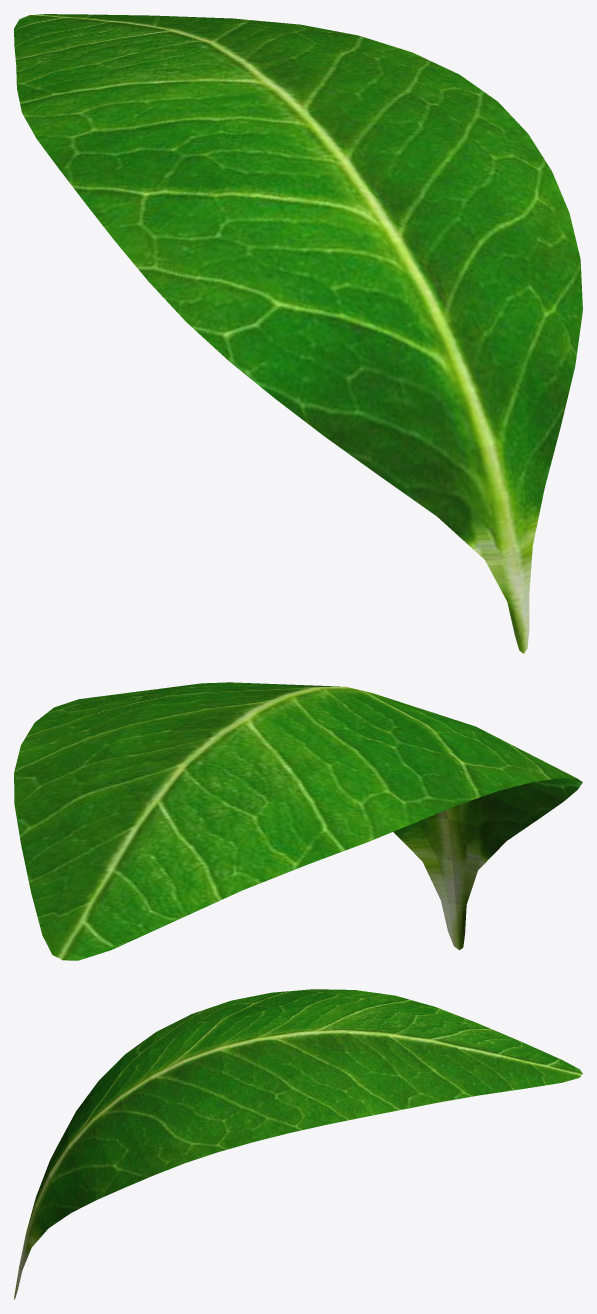
Rendered from Leaf.glb.
3 renders of one model, top to bottom at view 1: azimuth 30°, elevation 25°; view 2: azimuth 150°, elevation 25°; view 3: azimuth 270°, elevation 25°, orthographic. The views are drawn at different scales.
Parts seen in each view (by area): view 1: Plane; view 2: Plane; view 3: Plane.
Boxes of the visible parts, x1,y1,x2,y2 form: Plane: (14, 14, 582, 653); Plane: (14, 682, 582, 960); Plane: (14, 989, 582, 1299).
Size of the model in its own units: 3.45 by 3.12 by 6.14.
1 material, 1 textured.
